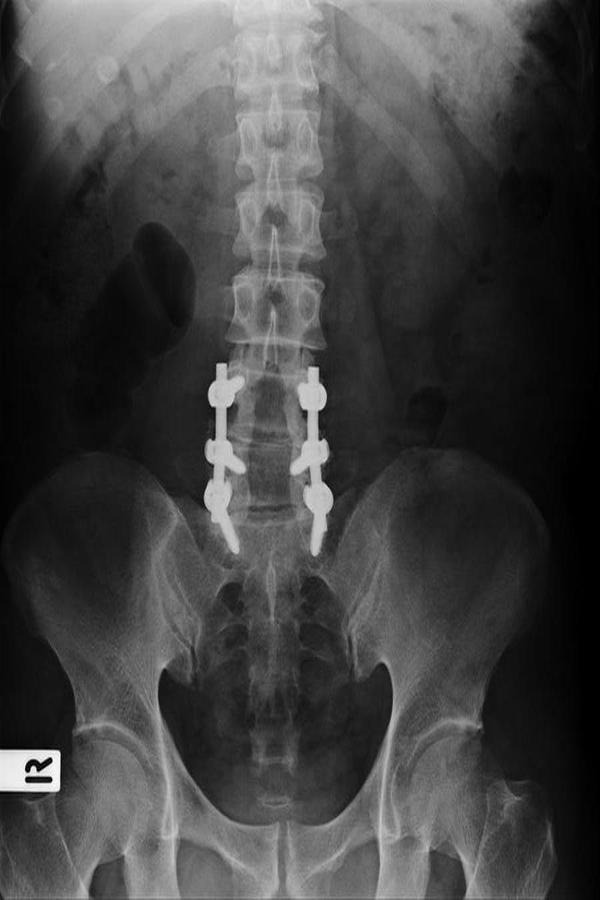lumbar scoliosis: (210, 6, 335, 575)
